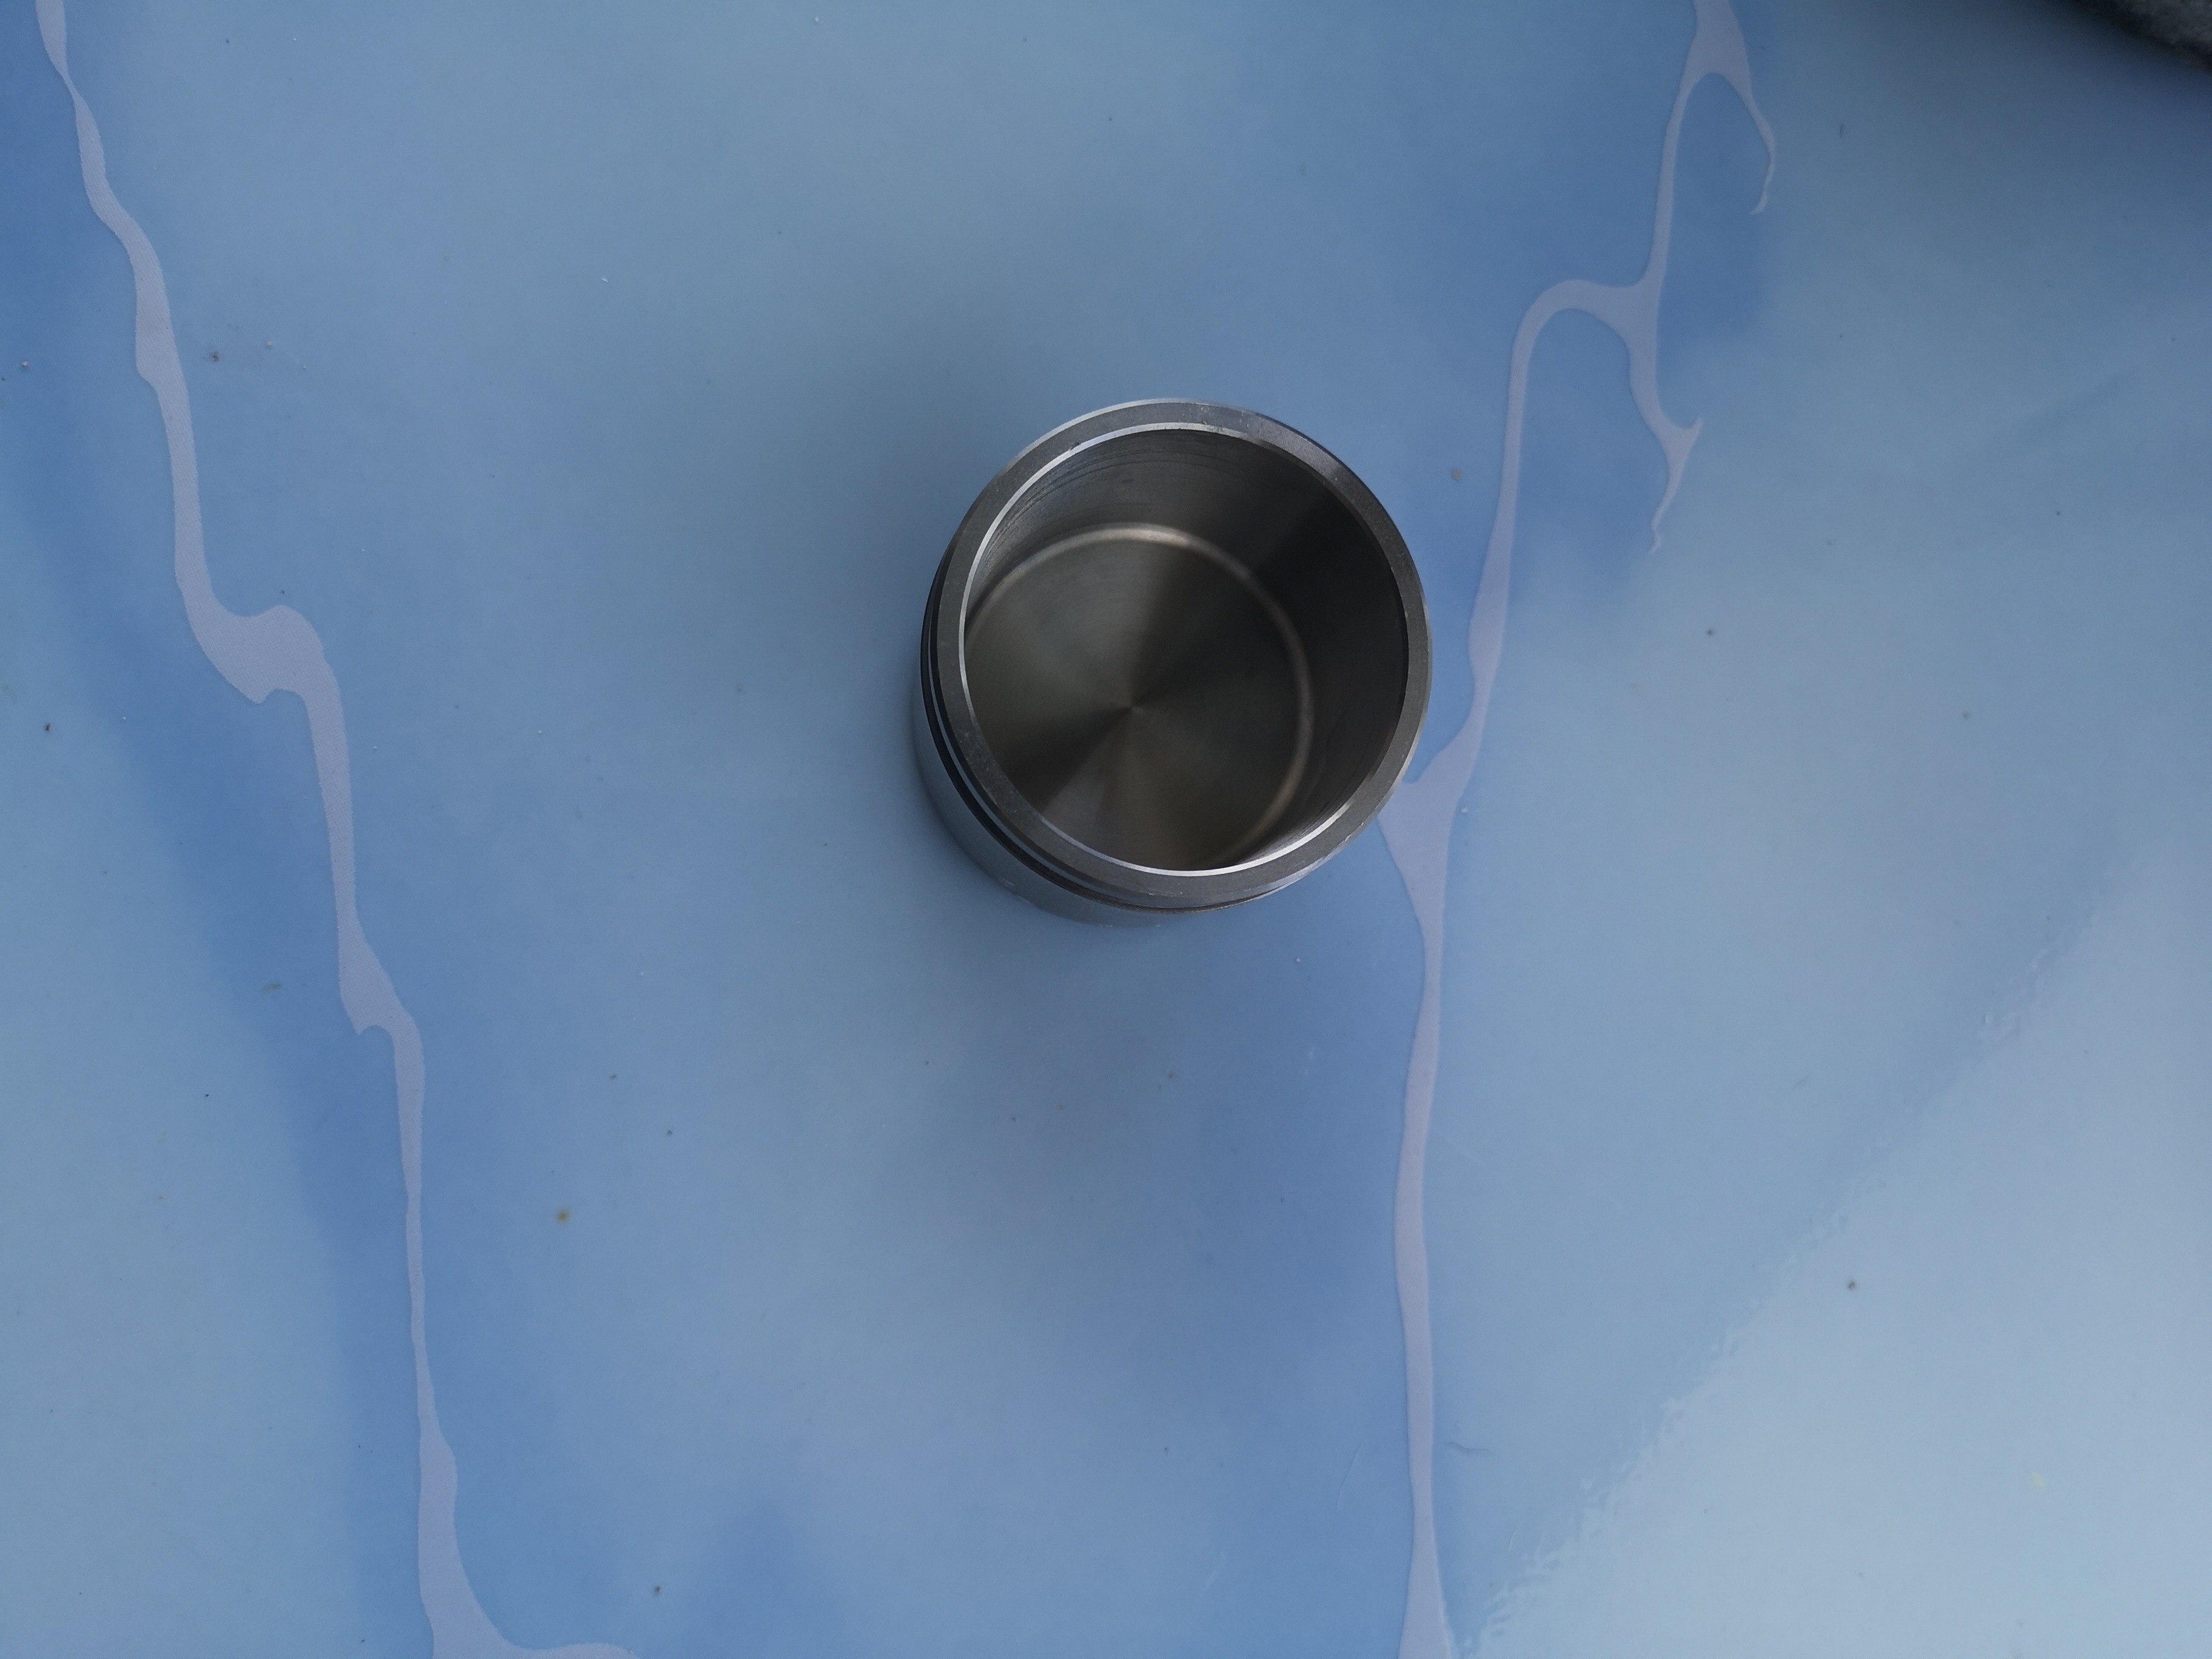ลูกสูบดิสเบรค: (869, 385, 1474, 990)
